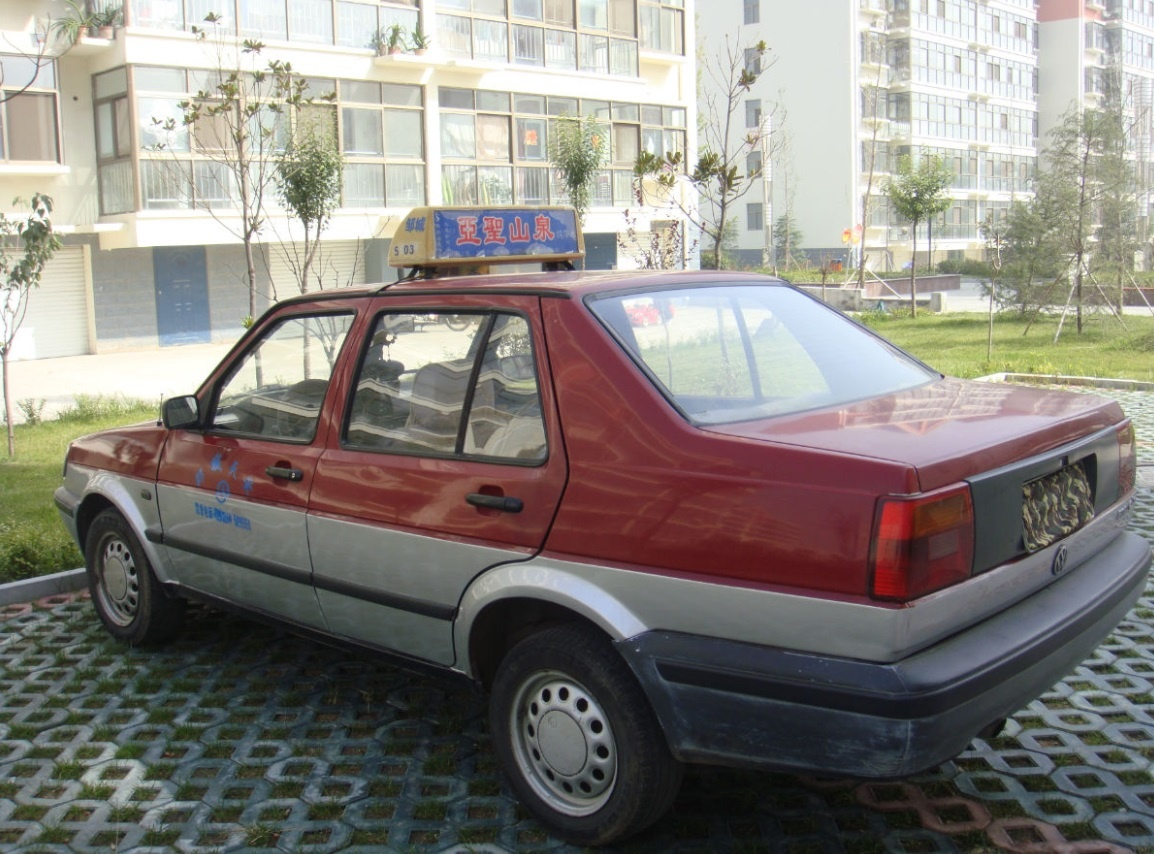taxi: (53, 185, 1129, 831)
